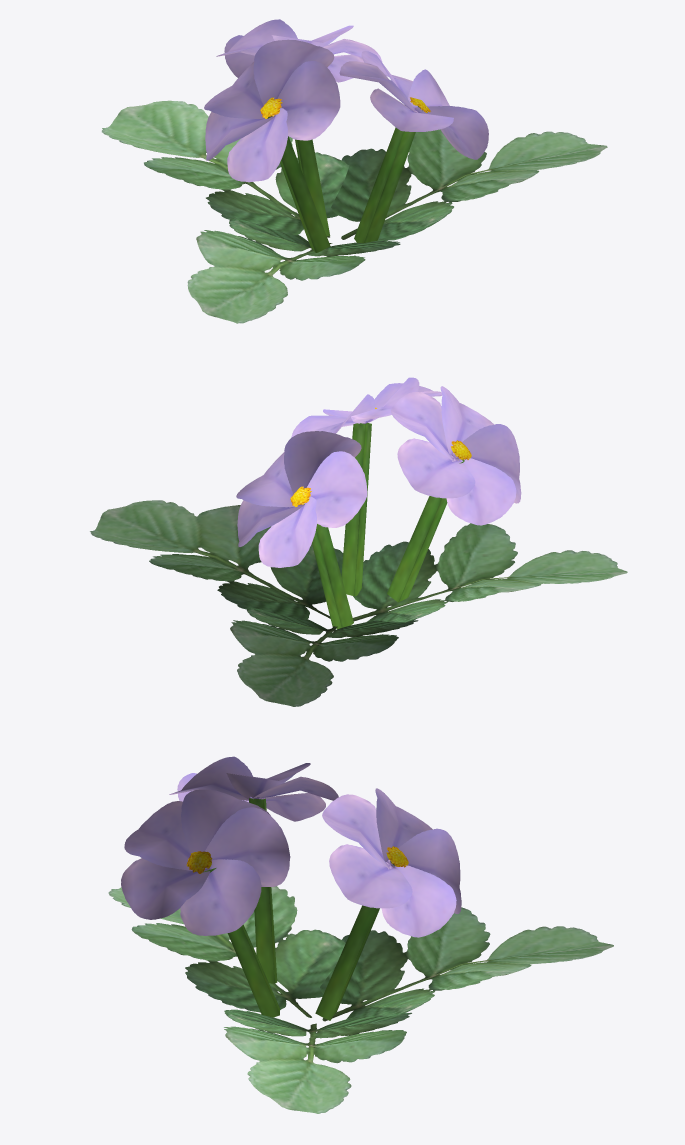
The model's file is indigof4.obj.
3 views of the same model, one above another, from view 1: azimuth 30°, elevation 25°; view 2: azimuth 150°, elevation 25°; view 3: azimuth 270°, elevation 25° (orthographic). The views are drawn at different scales.
Parts seen in each view (by area): view 1: indigof04; view 2: indigof04; view 3: indigof04.
Part boxes in pixels (left/top/right/bottom): indigof04: left=101, top=19, right=607, bottom=323; indigof04: left=90, top=377, right=627, bottom=706; indigof04: left=108, top=756, right=613, bottom=1113.
Size of the model in its own units: 33.92 by 13.77 by 33.31.
2 materials, 2 textured.
